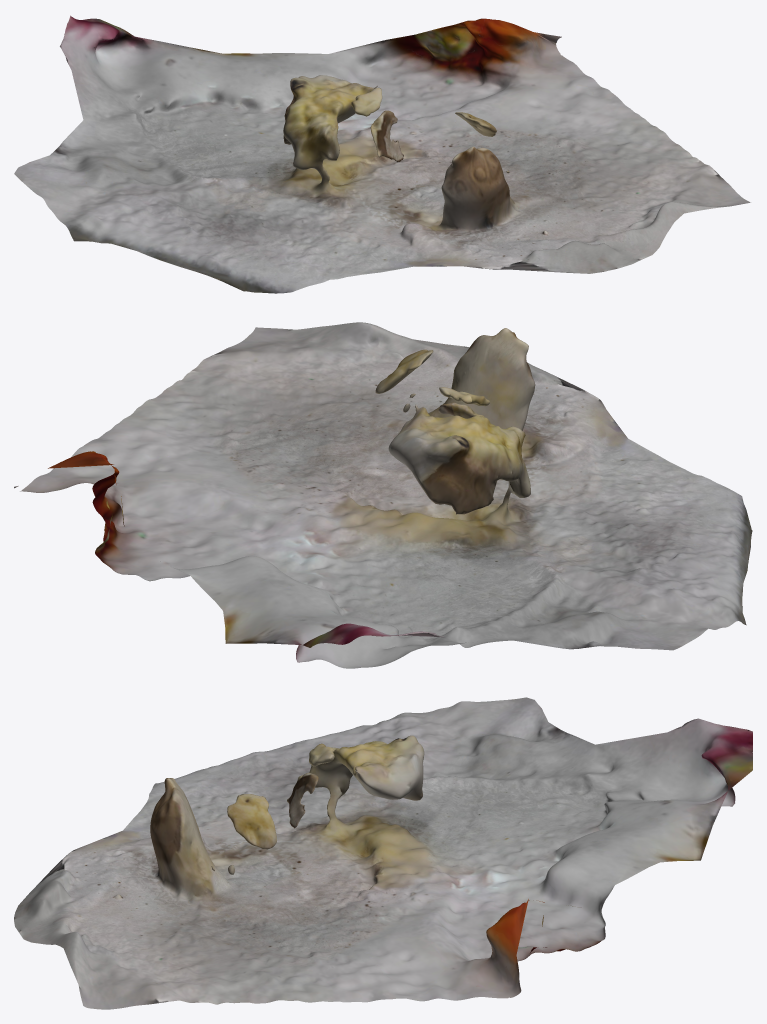
The picture shows the model from 3 angles, top to bottom: view 1: azimuth 30°, elevation 25°; view 2: azimuth 150°, elevation 25°; view 3: azimuth 270°, elevation 25°; orthographic projection. The views are drawn at different scales.
Size of the model in its own units: 3.5 by 0.7044 by 3.74.
Materials: 1 (1 with a texture image).
